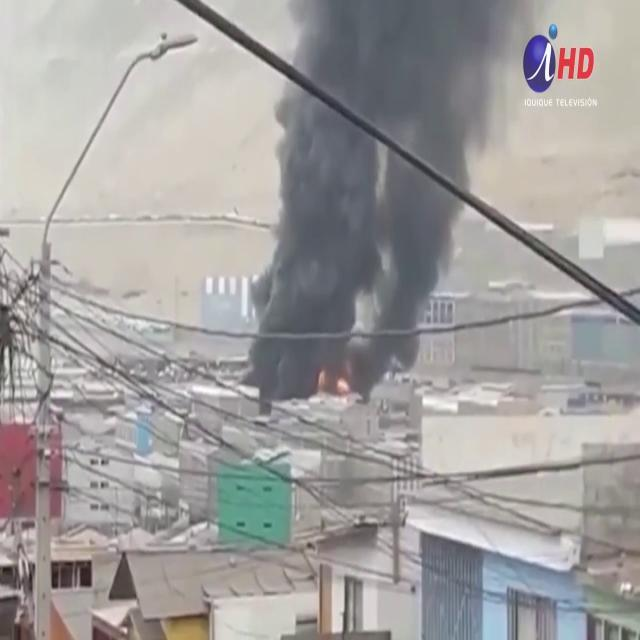Smoke: (234, 1, 503, 383)
